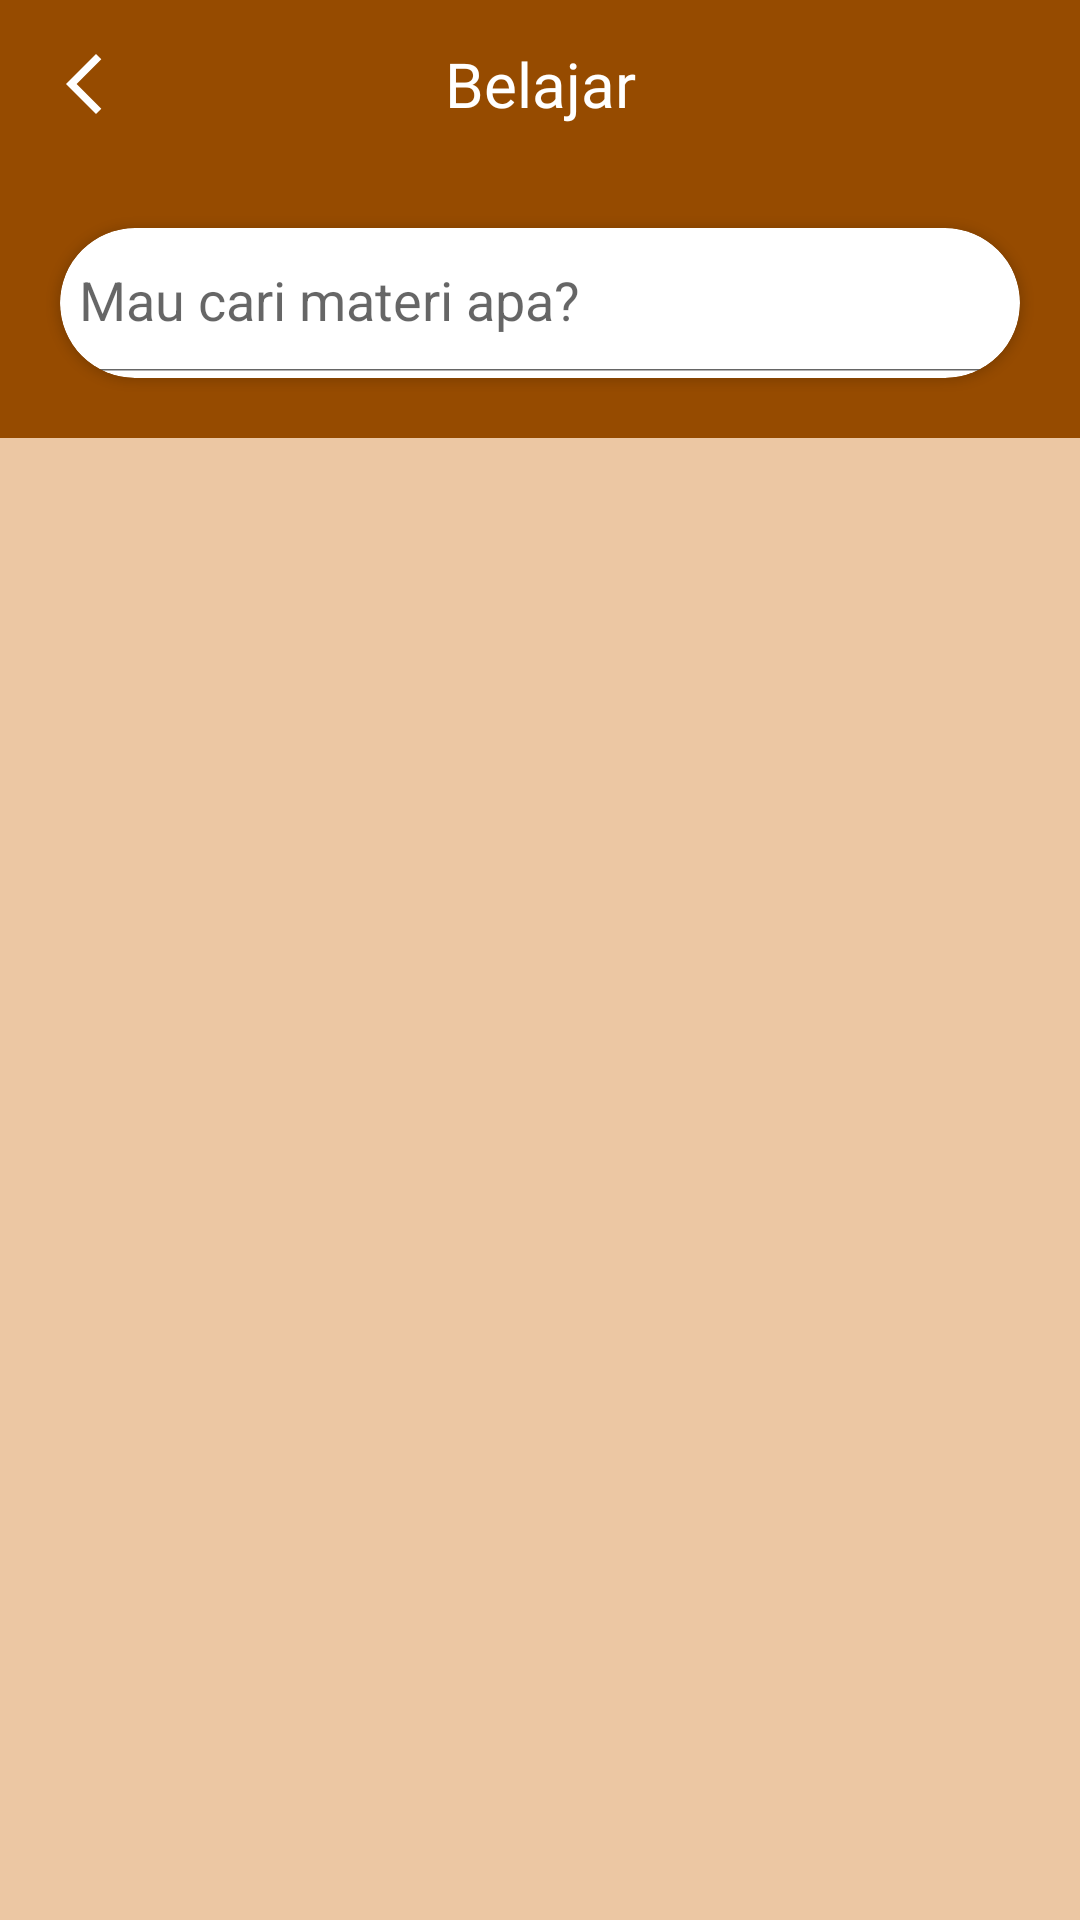

Icon click points for this 1080px×1920px phone screenshot, format point (x, y):
back: point (83, 84)
